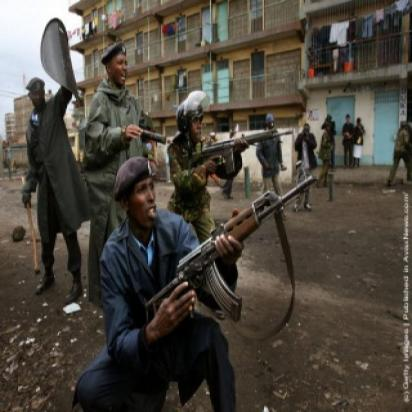Gun: (138, 168, 319, 334), (165, 117, 299, 171)
